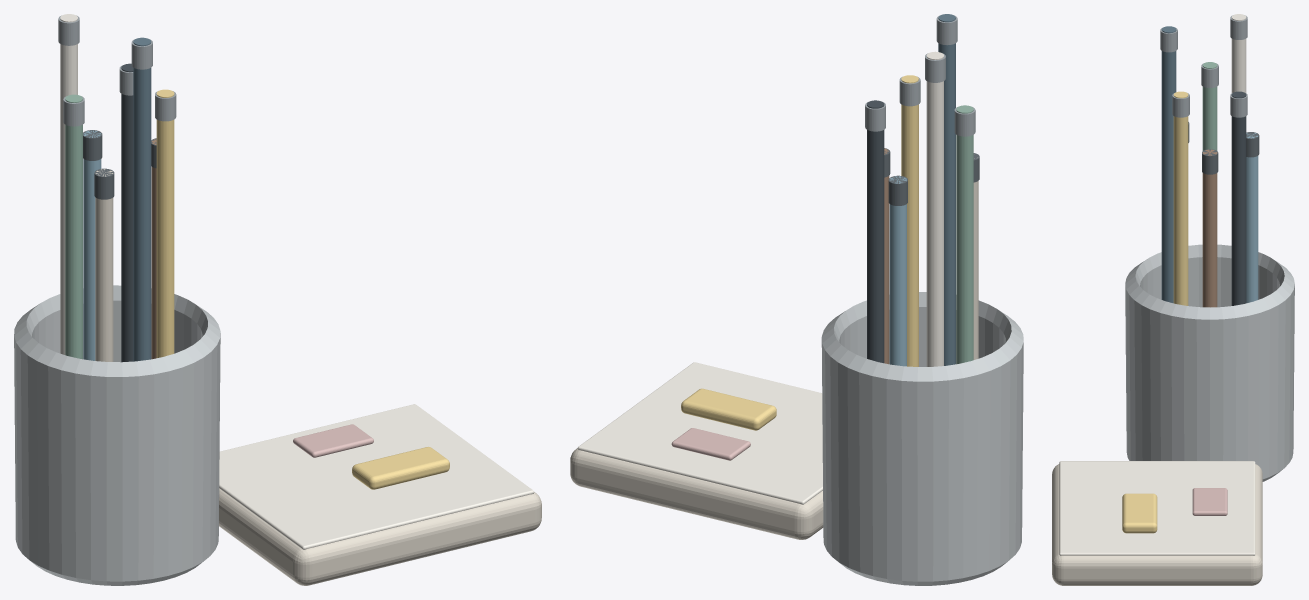
The model's file is stationery.glb.
The picture shows the model from 3 angles, left to right: view 1: azimuth 30°, elevation 25°; view 2: azimuth 150°, elevation 25°; view 3: azimuth 270°, elevation 25°; orthographic projection. The views are drawn at different scales.
Visible parts, largest first — view 1: stationery_cup_0, paper_12, cream_11, navy_5, yellow_3, green_7, black_10, cream_6, blue_9, yellow_13, steel_4, ivory_8 (+3 smaller); view 2: stationery_cup_0, paper_12, cream_11, ivory_8, black_10, green_7, navy_5, yellow_3, blue_9, steel_4, yellow_13, rose_14 (+3 smaller); view 3: stationery_cup_0, paper_12, cream_11, navy_5, yellow_3, black_10, walnut_1, blue_9, steel_4, yellow_13, green_7, rose_14 (+2 smaller).
Part boxes in pixels (<box>): stationery_cup_0: <box>14,285,220,585</box>; paper_12: <box>219,404,534,549</box>; cream_11: <box>219,488,541,585</box>; navy_5: <box>133,37,151,361</box>; yellow_3: <box>156,89,174,357</box>; green_7: <box>65,94,82,359</box>; black_10: <box>121,63,133,362</box>; cream_6: <box>95,169,113,361</box>; blue_9: <box>83,130,101,360</box>; yellow_13: <box>352,447,449,489</box>; steel_4: <box>58,15,176,126</box>; ivory_8: <box>60,14,77,354</box>; stationery_cup_0: <box>821,292,1023,585</box>; paper_12: <box>577,362,822,504</box>; cream_11: <box>570,448,823,539</box>; ivory_8: <box>926,51,943,366</box>; black_10: <box>867,100,884,363</box>; green_7: <box>956,105,973,364</box>; navy_5: <box>938,14,955,365</box>; yellow_3: <box>901,75,918,366</box>; blue_9: <box>889,176,906,366</box>; steel_4: <box>865,15,975,136</box>; yellow_13: <box>681,388,776,430</box>; rose_14: <box>671,428,750,460</box>; stationery_cup_0: <box>1125,244,1294,481</box>; paper_12: <box>1059,461,1255,555</box>; cream_11: <box>1052,464,1262,585</box>; navy_5: <box>1161,26,1176,303</box>; yellow_3: <box>1173,91,1188,305</box>; black_10: <box>1231,91,1246,305</box>; walnut_1: <box>1202,149,1217,307</box>; blue_9: <box>1246,133,1258,303</box>; steel_4: <box>1160,15,1247,117</box>; yellow_13: <box>1122,493,1157,533</box>; green_7: <box>1202,62,1217,150</box>; rose_14: <box>1192,488,1227,515</box>.
Size of the model in its own units: 1.37 by 1.62 by 0.83.
